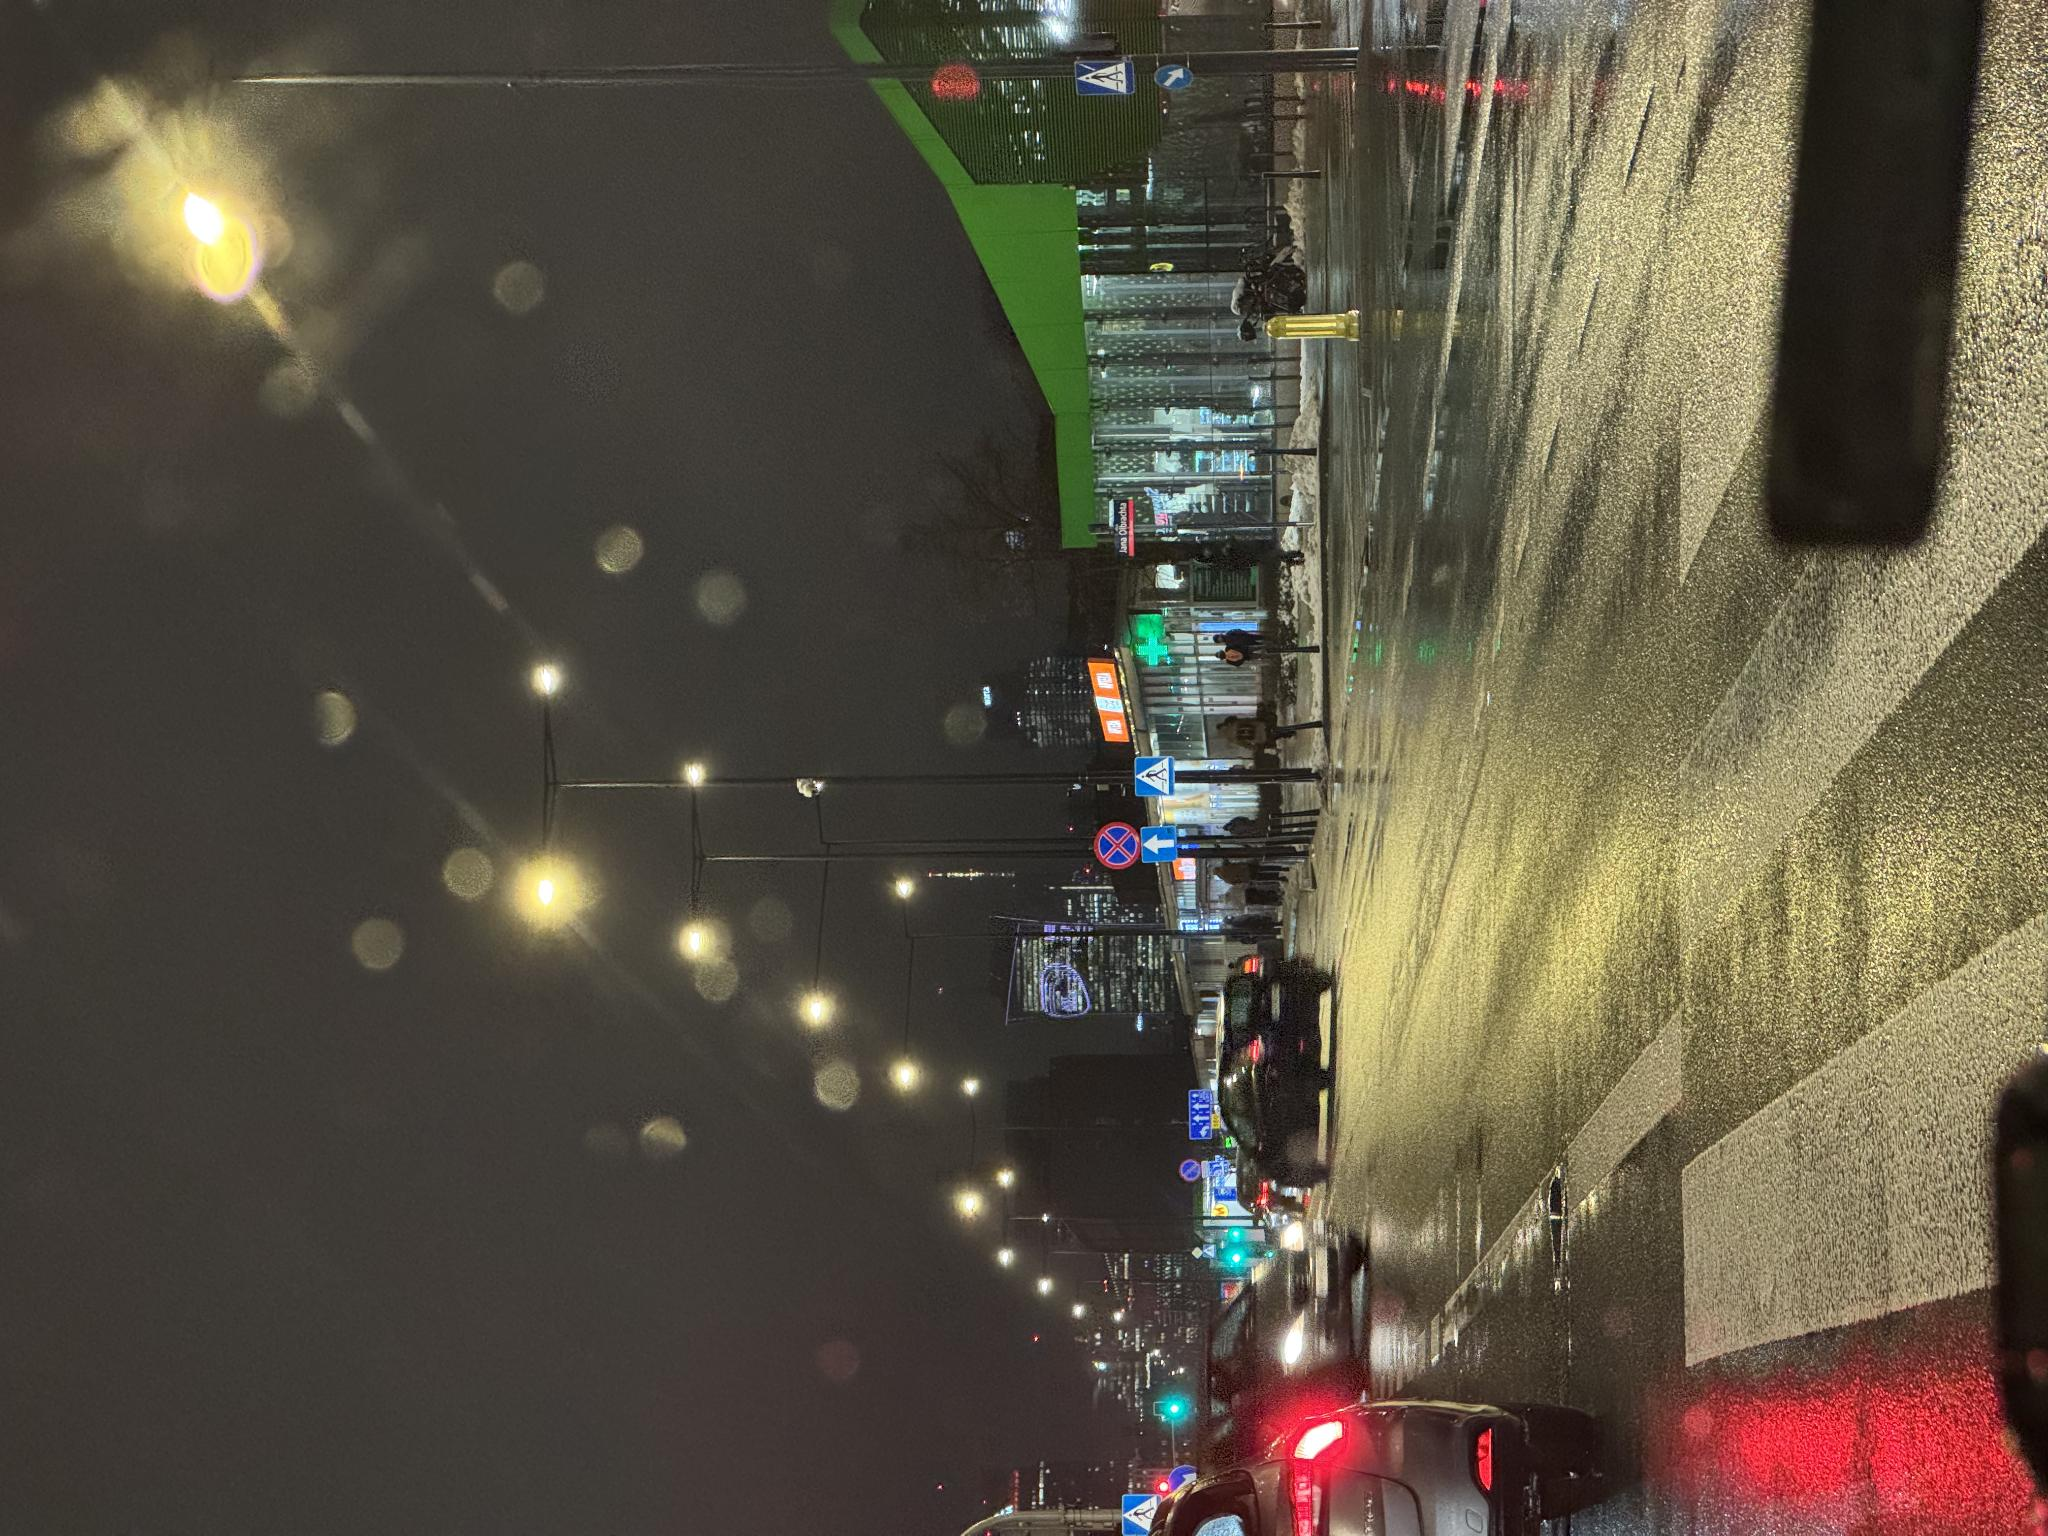information: (1440, 1073, 1479, 1136), (740, 1134, 780, 1176), (0, 1121, 42, 1162), (672, 1141, 711, 1178), (277, 1204, 292, 1217), (277, 1191, 289, 1204)
mandatory: (44, 1168, 71, 1199)
other: (397, 1187, 448, 1210), (335, 1215, 348, 1238), (360, 1210, 376, 1228), (408, 1212, 423, 1220), (358, 1202, 376, 1208)
prohibitory: (668, 1092, 714, 1141), (355, 1178, 377, 1202)
